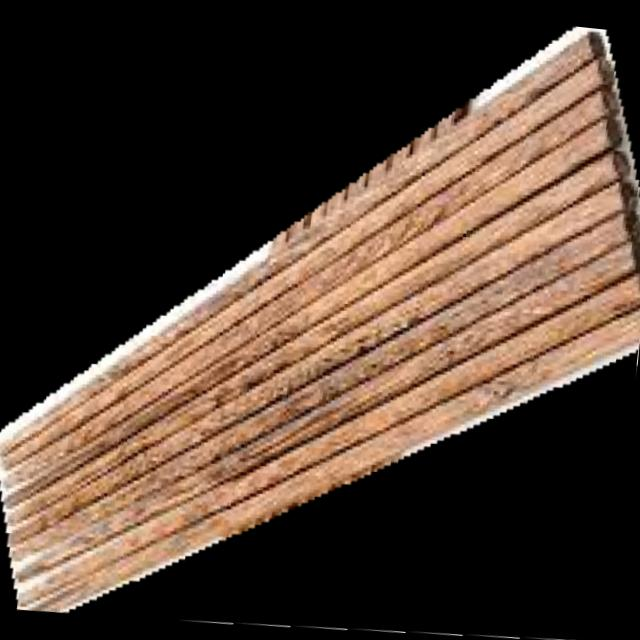others: (0, 25, 640, 612)
